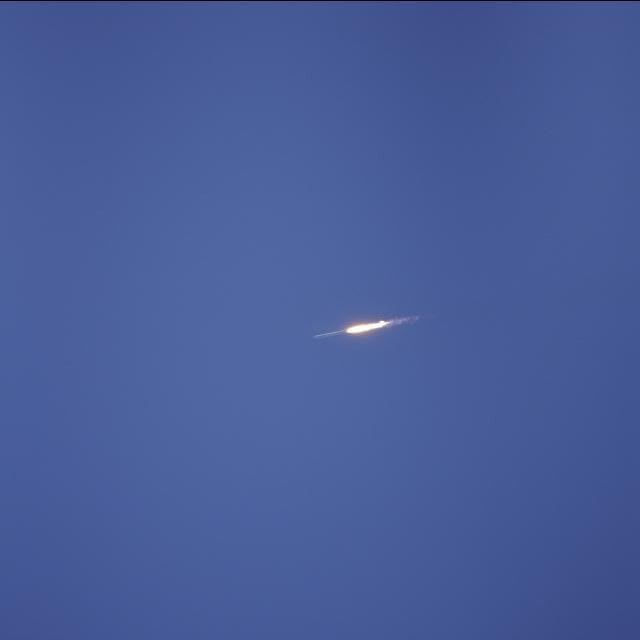missile: (312, 323, 348, 348)
